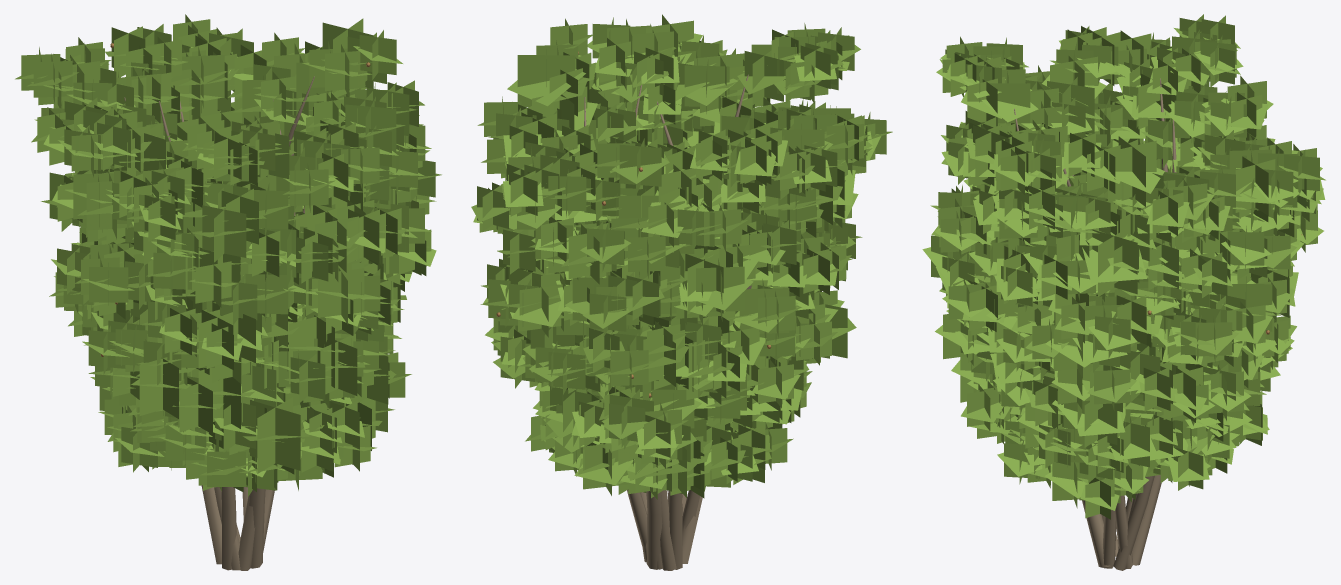
Rendered from noisetier_5_f3_jeu.glb.
3 renders of one model, left to right at view 1: azimuth 30°, elevation 25°; view 2: azimuth 150°, elevation 25°; view 3: azimuth 270°, elevation 25°, orthographic. The views are drawn at different scales.
Visible parts, largest first — view 1: Noisetier_T5_f3_Leger; view 2: Noisetier_T5_f3_Leger; view 3: Noisetier_T5_f3_Leger.
Part boxes in pixels (x1=…): Noisetier_T5_f3_Leger: x1=15, y1=14, x2=441, y2=570; Noisetier_T5_f3_Leger: x1=471, y1=14, x2=892, y2=570; Noisetier_T5_f3_Leger: x1=922, y1=14, x2=1325, y2=570.
Bounding box in the file's own units: 5.91 × 7.56 × 5.78.
